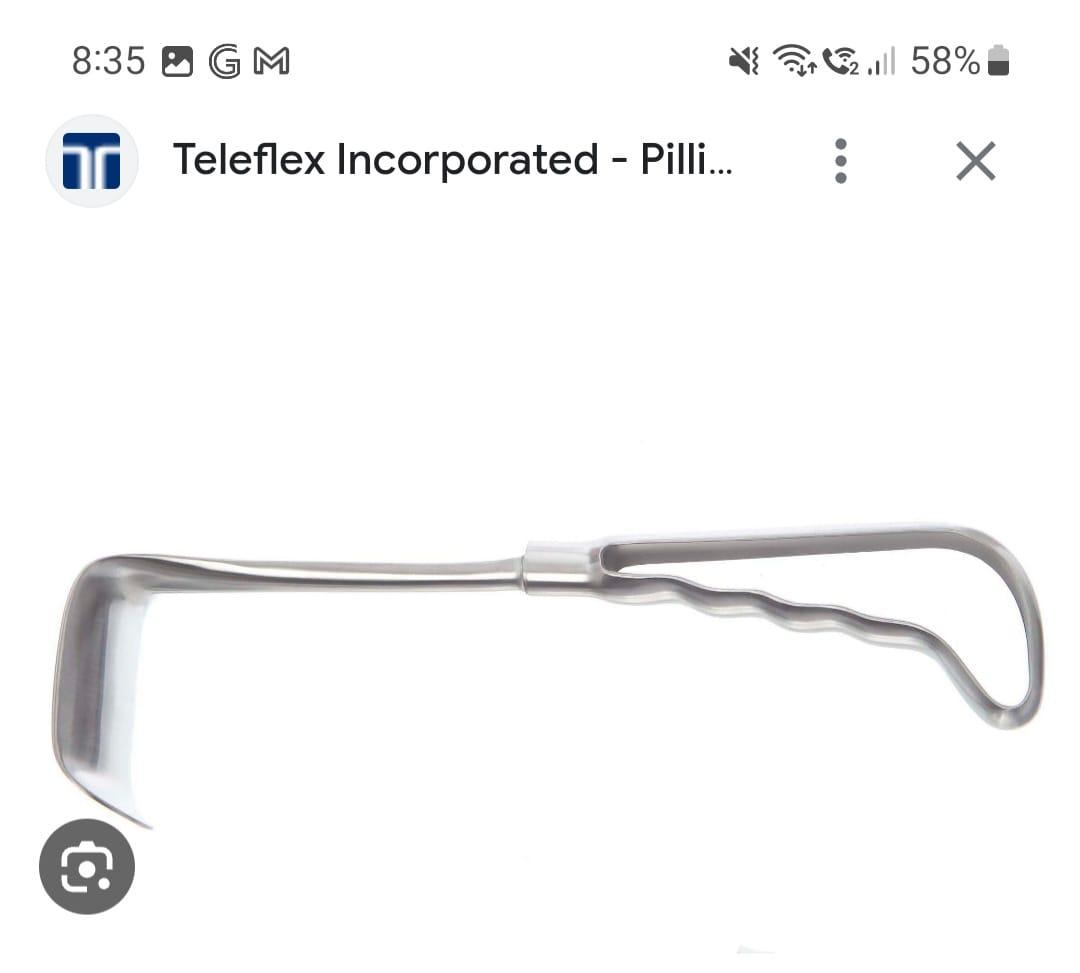Kelly Retractor: (46, 513, 1056, 839)
